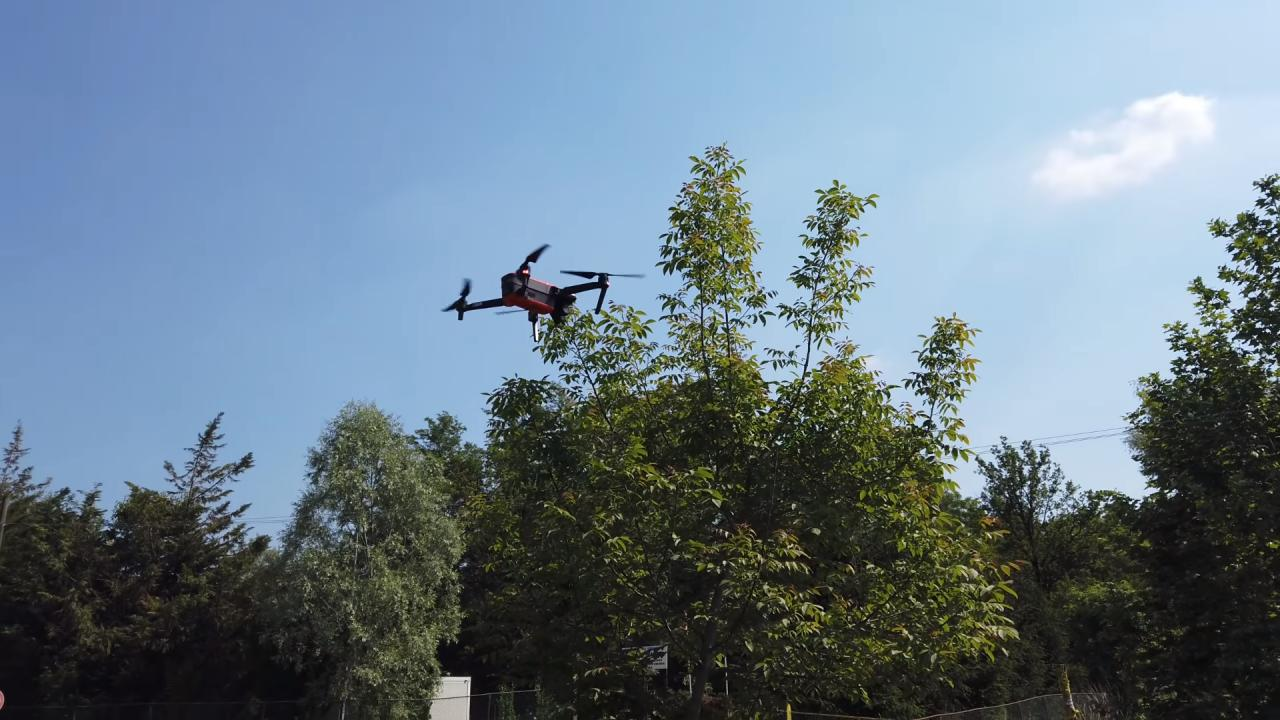Drone: (438, 234, 650, 352)
